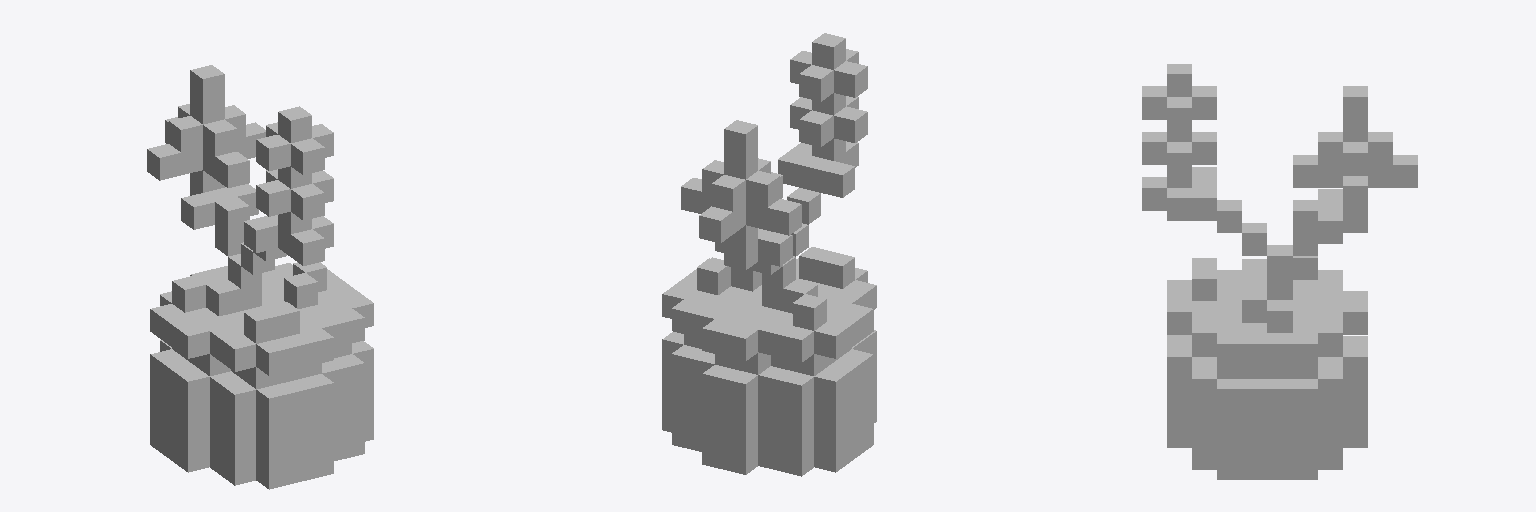
File: flower 1.obj
The picture shows the model from 3 angles: view 1: azimuth 30°, elevation 25°; view 2: azimuth 150°, elevation 25°; view 3: azimuth 270°, elevation 25°; orthographic projection.
Visible parts, largest first — view 1: object 1; view 2: object 1; view 3: object 1.
Part boxes in pixels (x1,y1,x2,y2): object 1: (147,65,373,489); object 1: (662,33,876,476); object 1: (1142,64,1417,479).
Size of the model in its own units: 0.8 by 1.6 by 1.1.